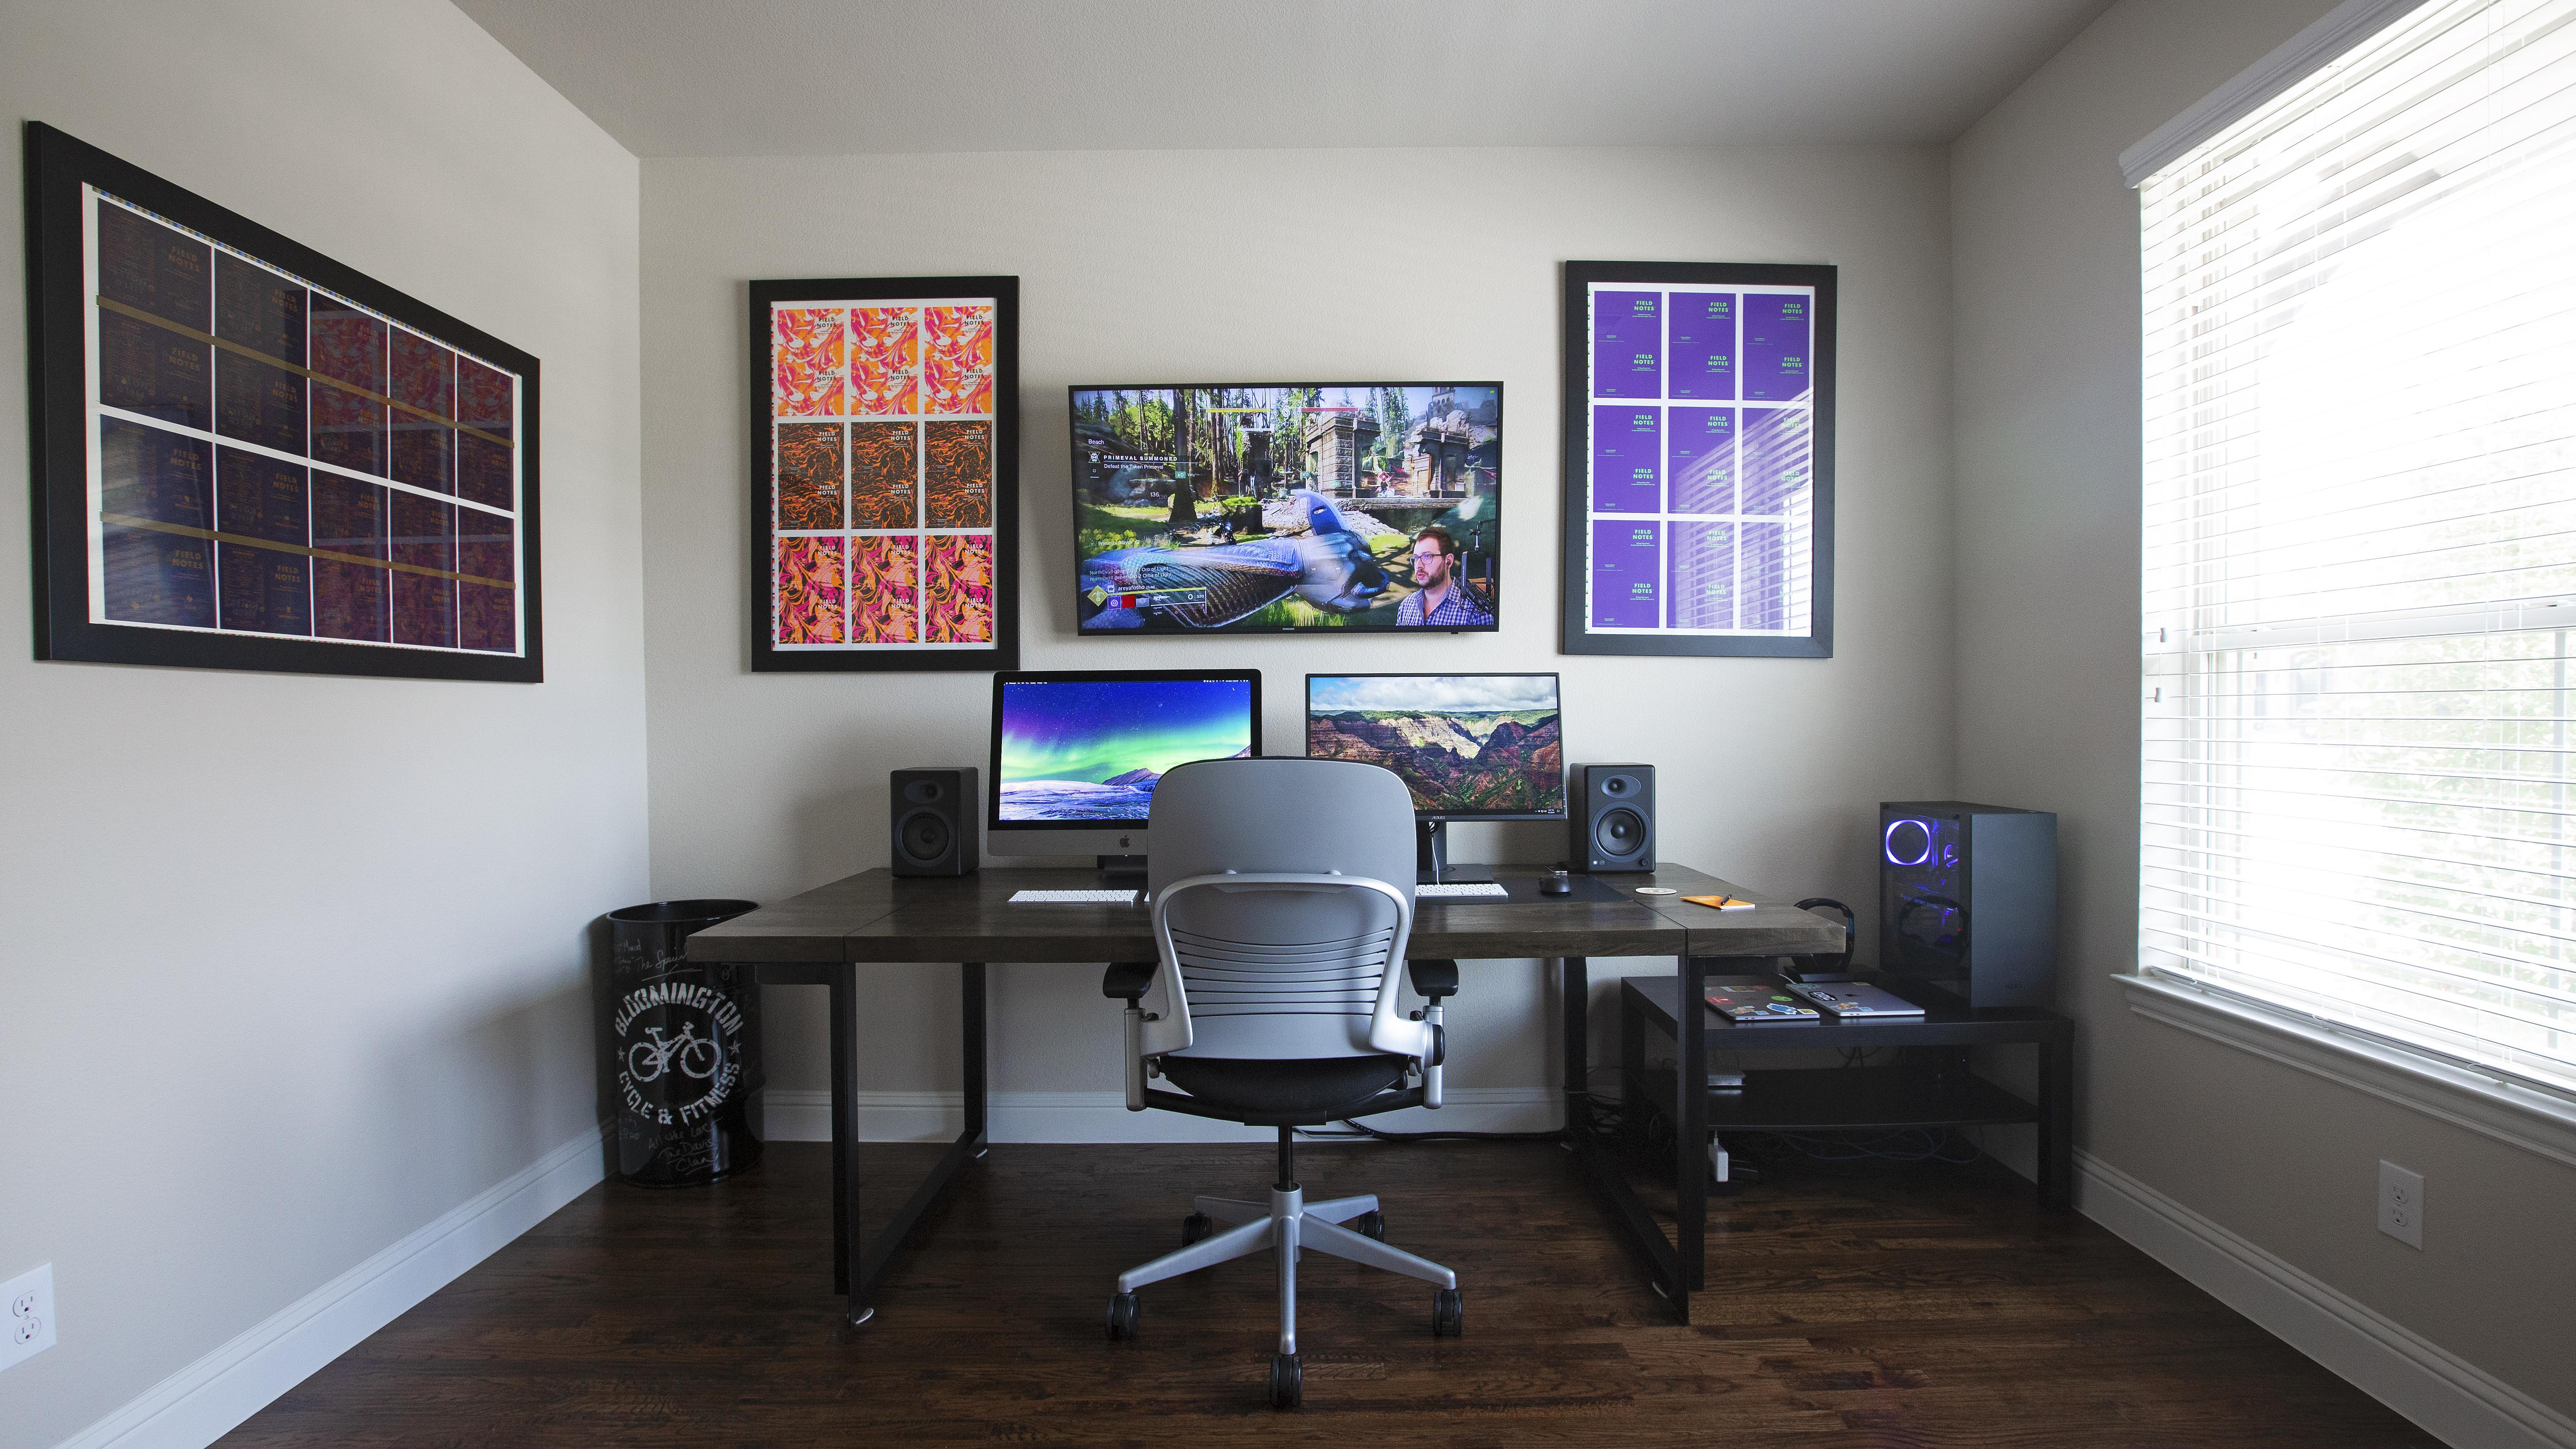Chair (Generic): (1109, 757, 1470, 1403)
Decoration (Picture): (21, 122, 545, 685), (1559, 257, 1842, 663), (748, 276, 1021, 679)
Desk (Generic): (690, 858, 1847, 1325)
Desktop (Generic): (1875, 800, 2059, 1010)
Drink Coaster: (1635, 886, 1675, 895)
External Speakers (Subwoofers): (886, 766, 985, 879), (1575, 757, 1661, 878)
Headphones: (1789, 895, 1856, 971)
Keyboard (Generic): (1007, 883, 1139, 909), (1414, 883, 1506, 899)
Laptop (Generic): (1792, 980, 1927, 1026), (1704, 980, 1819, 1024)
Monitor (Landscape): (1307, 672, 1566, 869)
Monitor (iMac): (985, 665, 1263, 863)
Mouse (Generic): (1537, 867, 1582, 897)
Notebook: (1679, 890, 1760, 918)
Trash Can: (600, 895, 764, 1189)
